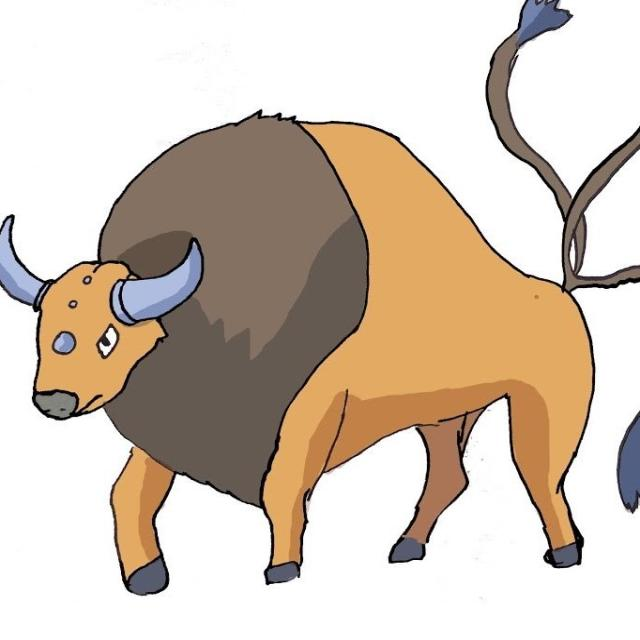Tauros: (0, 115, 585, 568)
